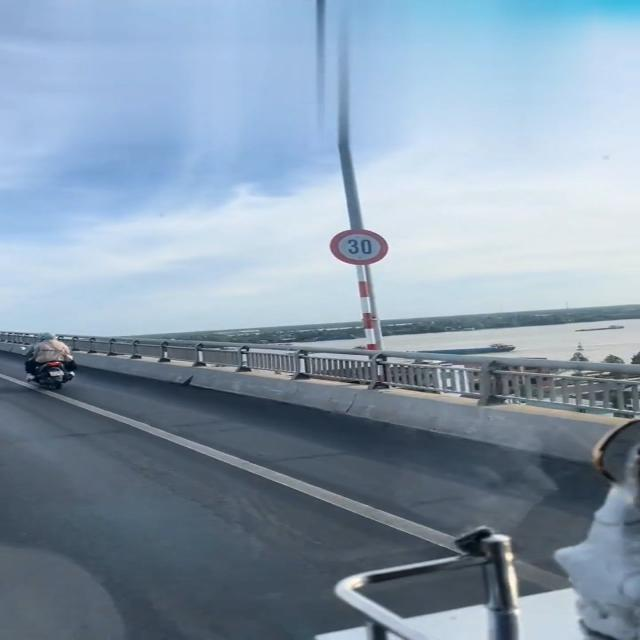127-toc-do-toi-da-30: (328, 229, 388, 265)
